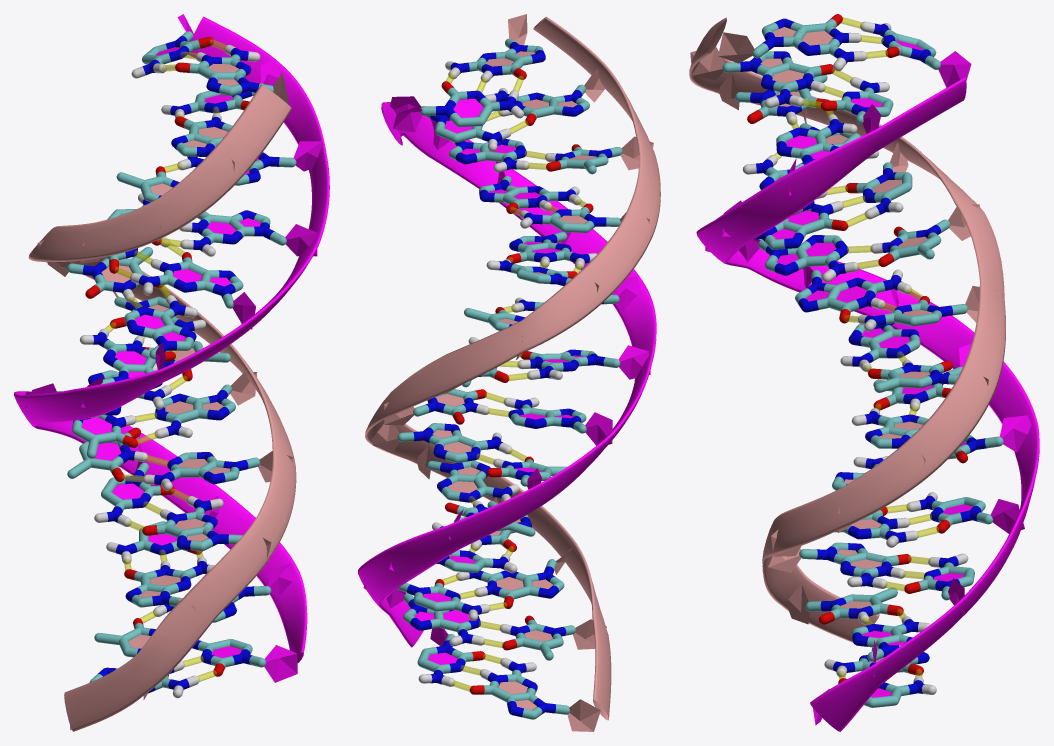
The model's file is b-dna-lite.glb.
The picture shows the model from 3 angles, left to right: view 1: azimuth 30°, elevation 25°; view 2: azimuth 150°, elevation 25°; view 3: azimuth 270°, elevation 25°; orthographic projection. The views are drawn at different scales.
Visible parts, largest first — view 1: Object_3, Object_2, Object_8, Object_4, Object_13, Object_12, Object_7; view 2: Object_3, Object_2, Object_8, Object_4, Object_13, Object_12, Object_7; view 3: Object_3, Object_2, Object_8, Object_4, Object_13, Object_12, Object_7.
Part boxes in pixels (box(x1,y1,x2,y2)): Object_3: box(28, 63, 296, 731); Object_2: box(14, 14, 329, 682); Object_8: box(57, 31, 296, 690); Object_4: box(73, 36, 279, 693); Object_13: box(80, 45, 260, 698); Object_12: box(105, 39, 226, 681); Object_7: box(85, 36, 249, 676); Object_3: box(365, 14, 660, 731); Object_2: box(358, 96, 656, 664); Object_8: box(397, 38, 622, 719); Object_4: box(407, 42, 612, 717); Object_13: box(418, 61, 597, 686); Object_12: box(442, 73, 586, 691); Object_7: box(435, 68, 593, 694); Object_3: box(689, 17, 1005, 662); Object_2: box(696, 40, 1039, 731); Object_8: box(722, 19, 1003, 707); Object_4: box(740, 18, 986, 694); Object_13: box(742, 21, 968, 694); Object_12: box(774, 17, 938, 679); Object_7: box(747, 14, 967, 683).
Bounding box in the file's own units: 1.01 × 2.41 × 1.1.
